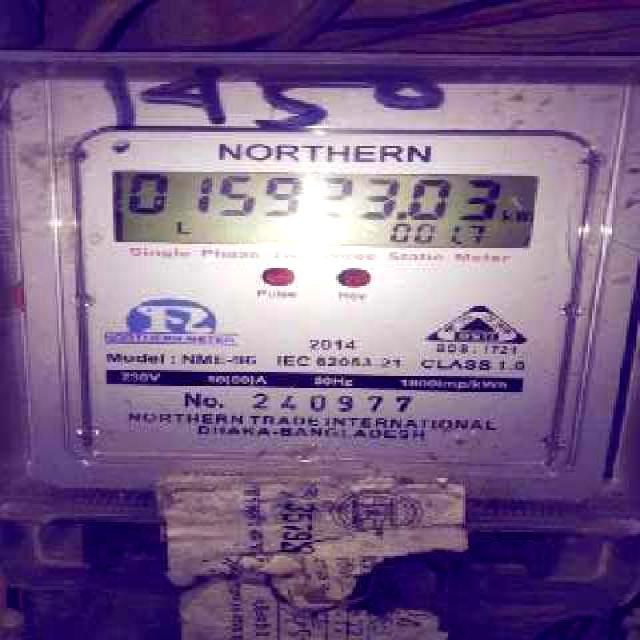LCD: (100, 163, 544, 258)
